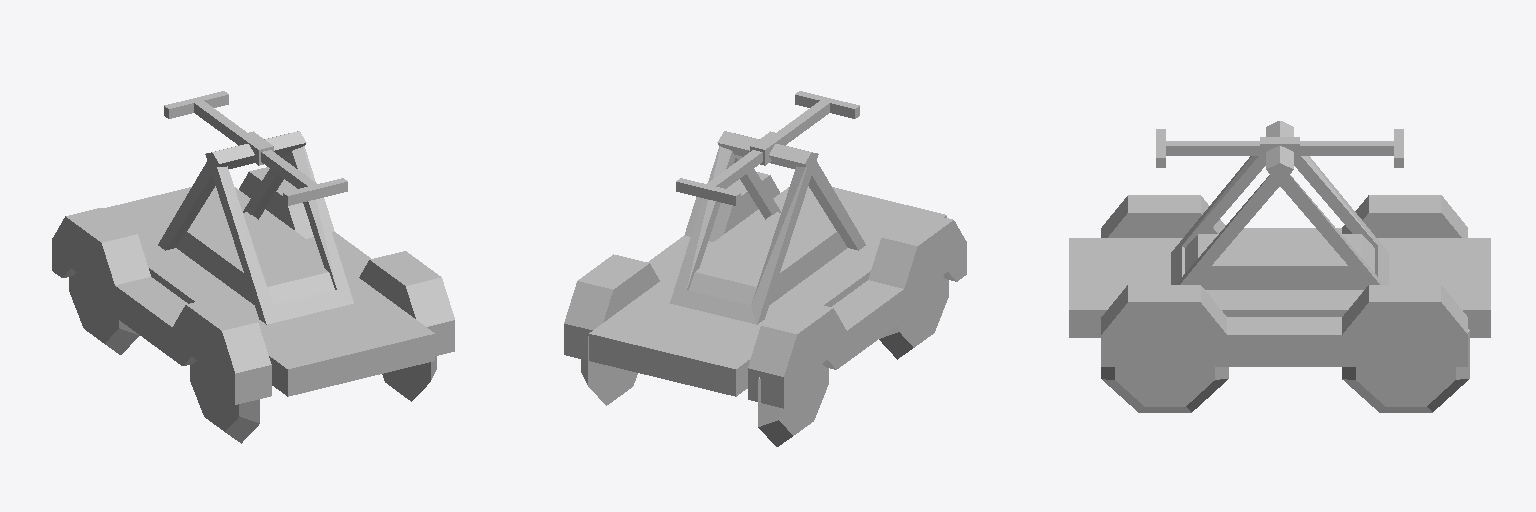
Rendered from SM_Veh_HandCar_01.obj.
3 views of the same model, side by side, from view 1: azimuth 30°, elevation 25°; view 2: azimuth 150°, elevation 25°; view 3: azimuth 270°, elevation 25° (orthographic).
Parts seen in each view (by area): view 1: SM_Veh_HandCar_01:Mesh; view 2: SM_Veh_HandCar_01:Mesh; view 3: SM_Veh_HandCar_01:Mesh.
Boxes of the visible parts, x1=… form: SM_Veh_HandCar_01:Mesh: x1=52, y1=91, x2=454, y2=443; SM_Veh_HandCar_01:Mesh: x1=564, y1=91, x2=966, y2=446; SM_Veh_HandCar_01:Mesh: x1=1069, y1=121, x2=1490, y2=412.
Bounding box in the file's own units: 3.31 × 3.32 × 5.5.